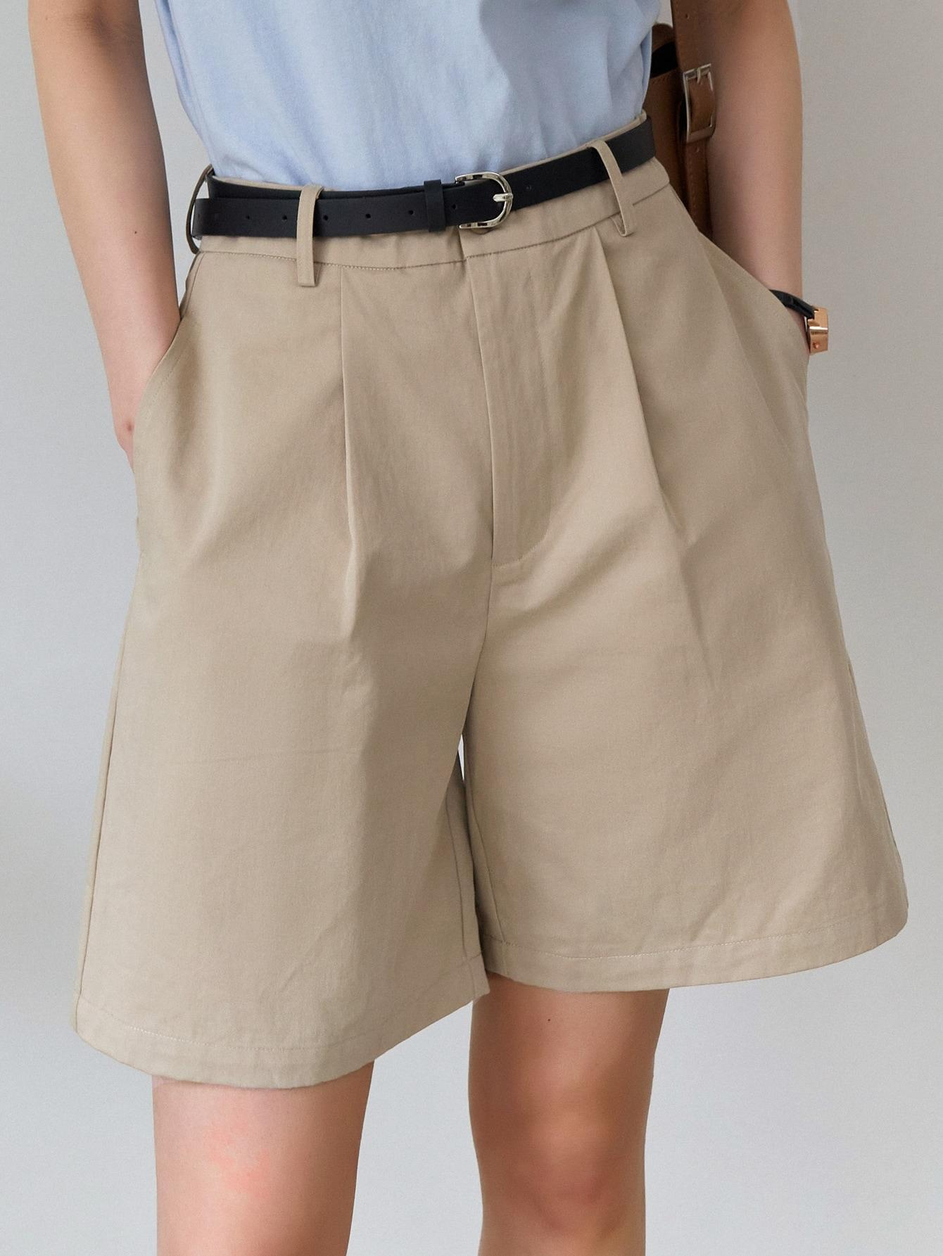Shorts: (62, 157, 916, 1100)
short sleeve shirt: (132, 0, 673, 214)
